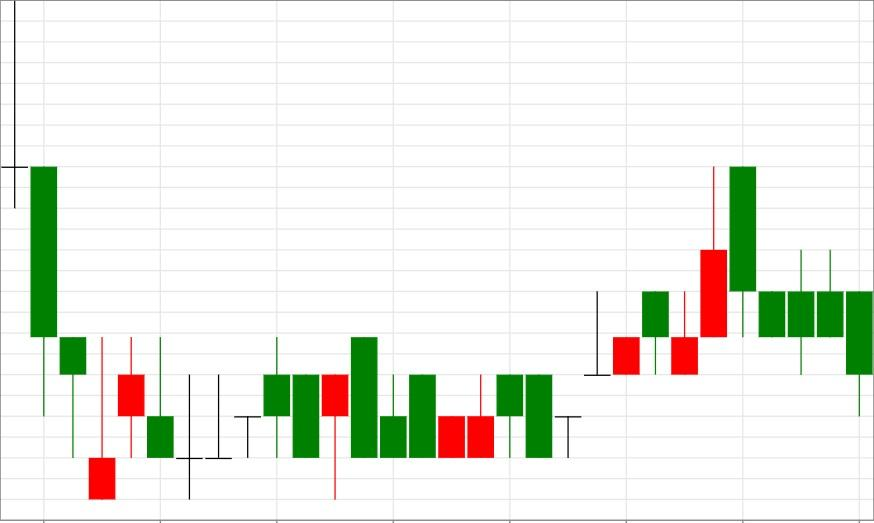inverse_hammer_rise: (0, 0, 117, 500)
